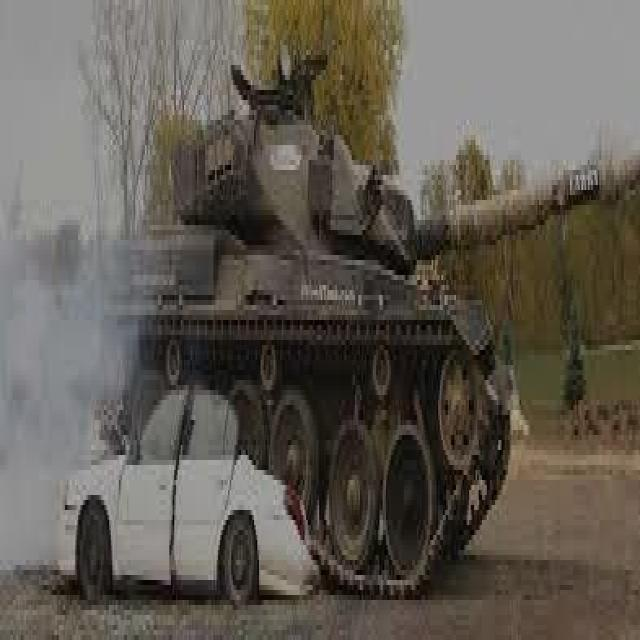MIL_MBT: (68, 18, 565, 598)
